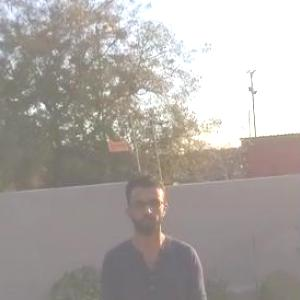follow: (92, 163, 223, 299)
